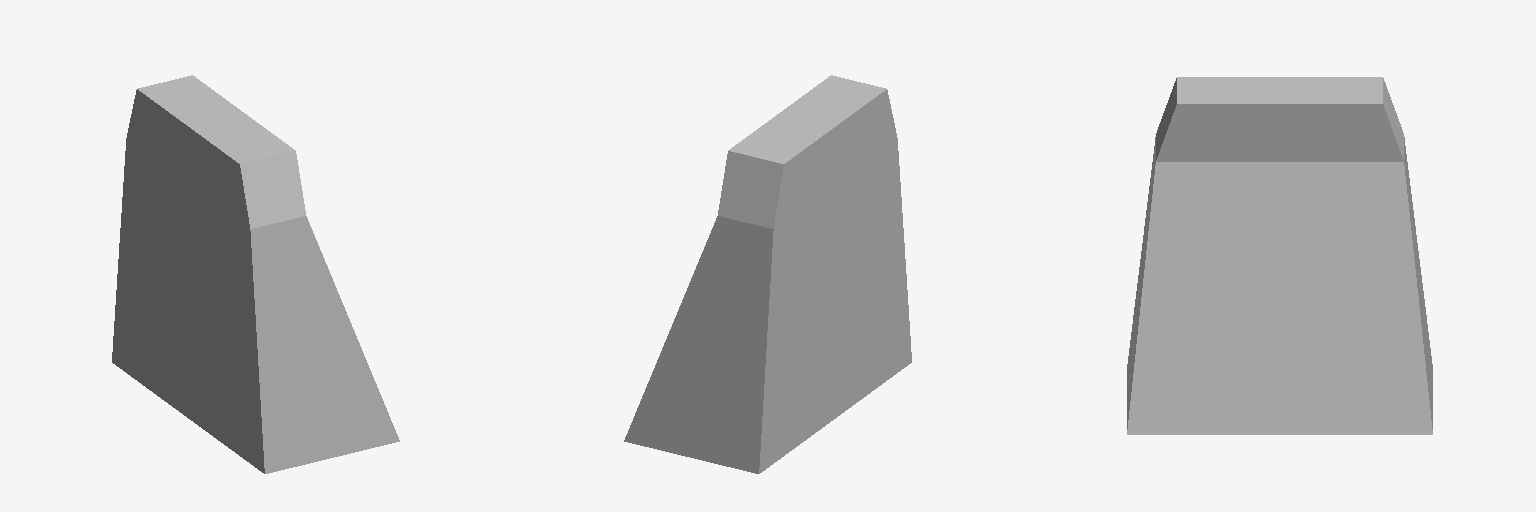
Rendered from mStoneSlab.obj.
3 views of the same model, side by side, from view 1: azimuth 30°, elevation 25°; view 2: azimuth 150°, elevation 25°; view 3: azimuth 270°, elevation 25° (orthographic).
Parts seen in each view (by area): view 1: mStoneSlab; view 2: mStoneSlab; view 3: mStoneSlab.
Part boxes in pixels (x1,y1,x2,y2): mStoneSlab: (112,75,399,473); mStoneSlab: (624,75,911,473); mStoneSlab: (1127,77,1432,434).
Bounding box in the file's own units: 2.42 × 4.98 × 4.74.